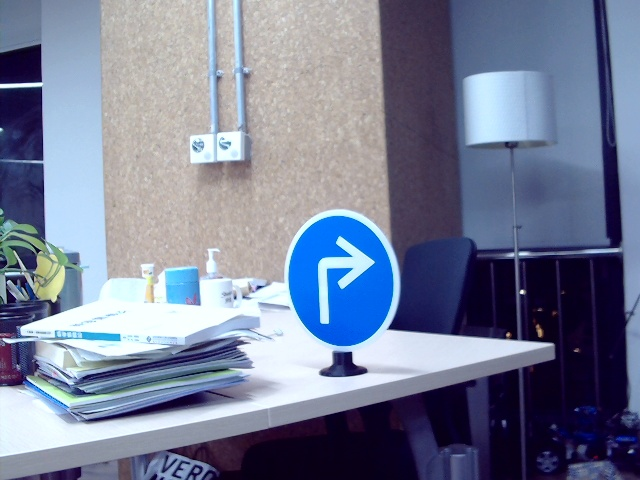turn_right: (306, 242, 374, 322)
